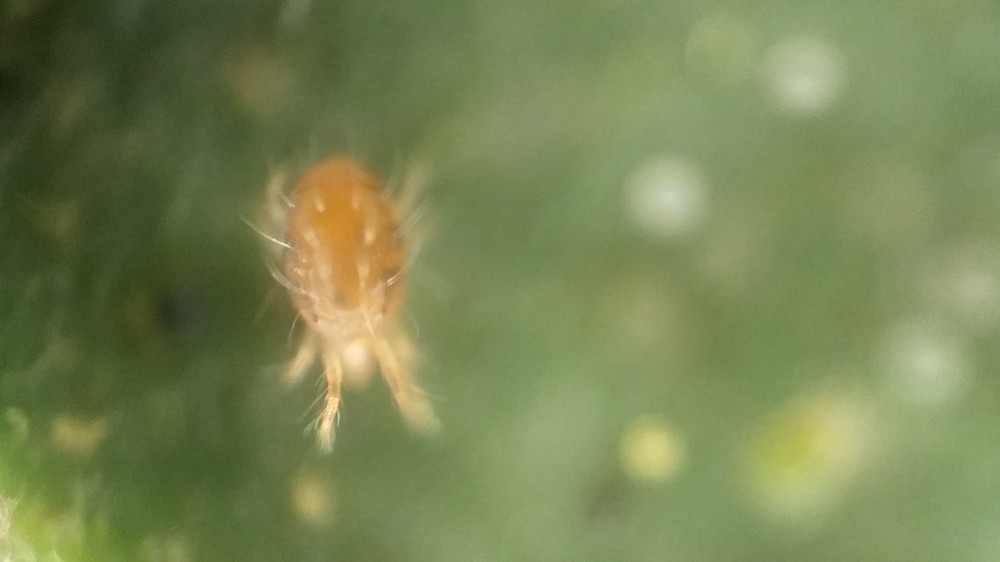Aracnido Rojo: (214, 129, 486, 471)
